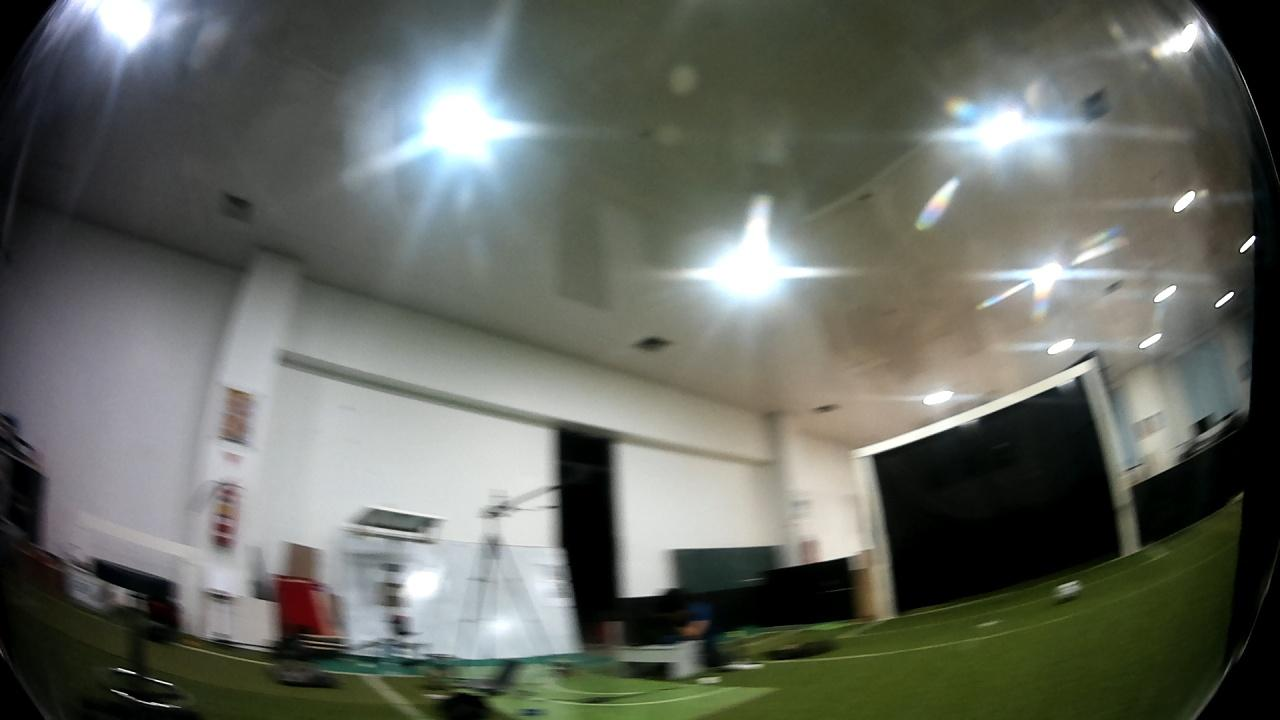ball: (1047, 574, 1085, 610)
